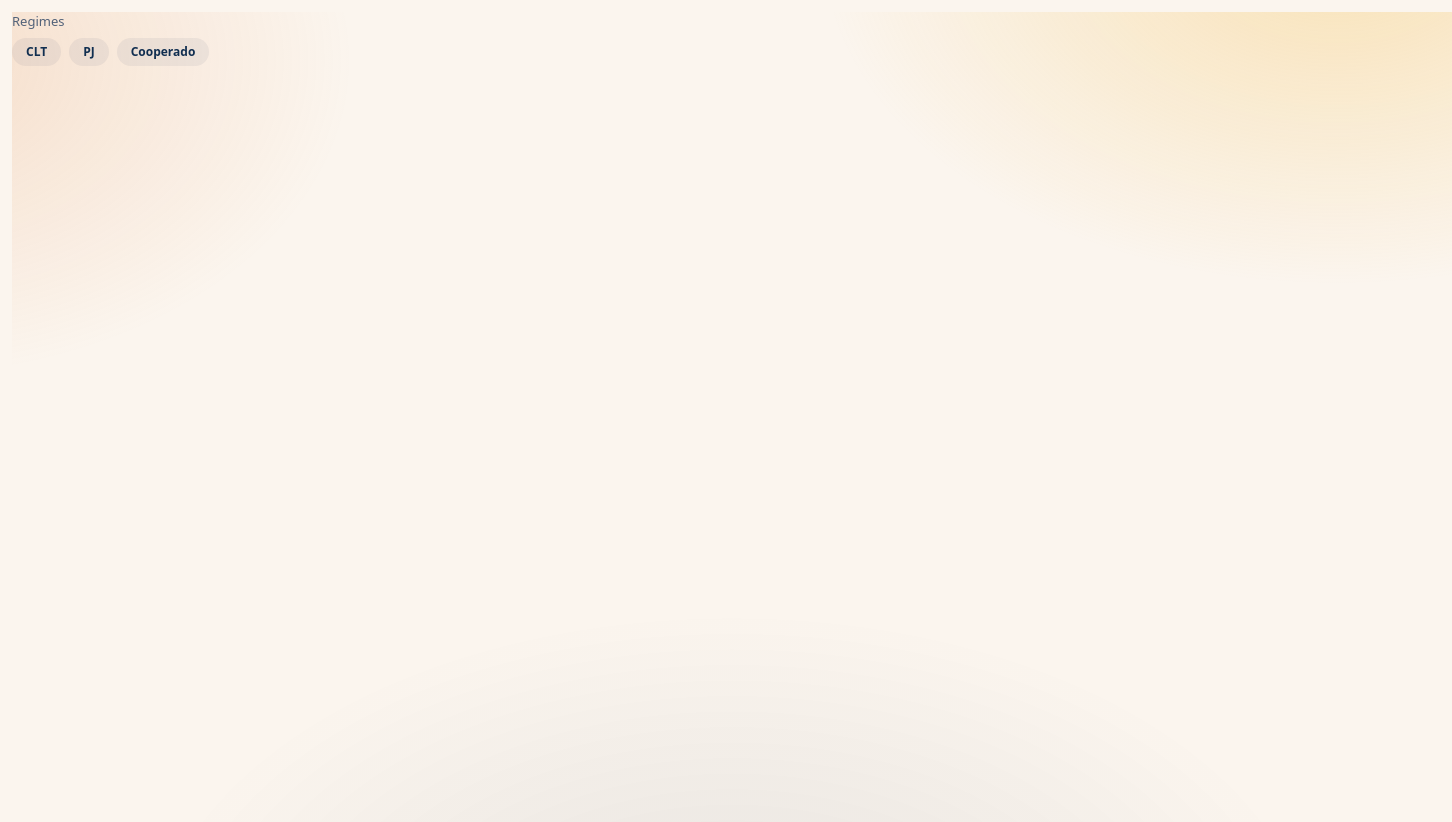
Test: ChipGroup › liga e desliga opções, indicando o estado por aria-pressed
Later steps or results of the test are not shown.
Click the button "CLT" at (37, 52), box [12,38,61,66]
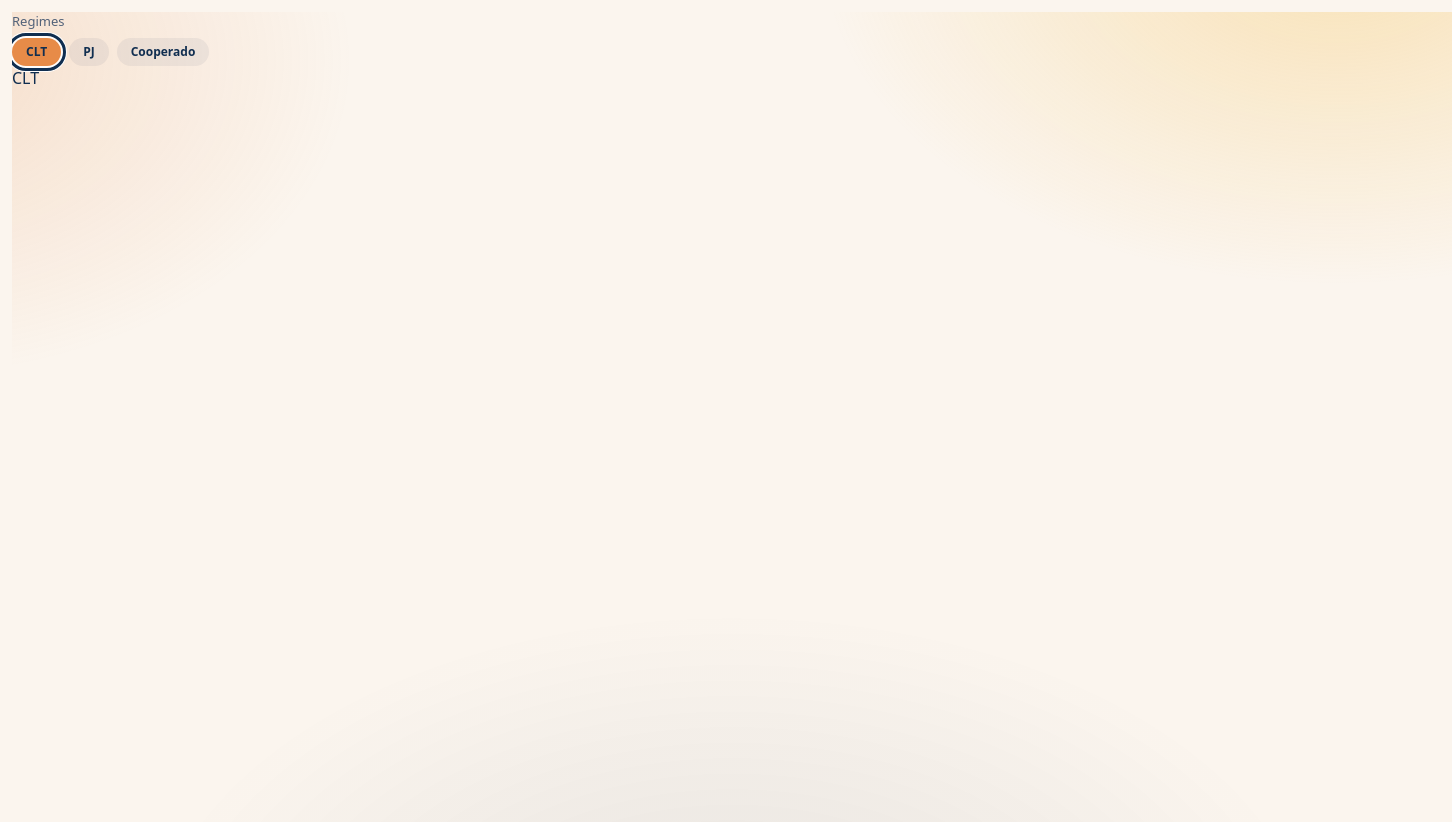
Check: the text with test id "sel" reads "CLT", box [12,66,39,88]
